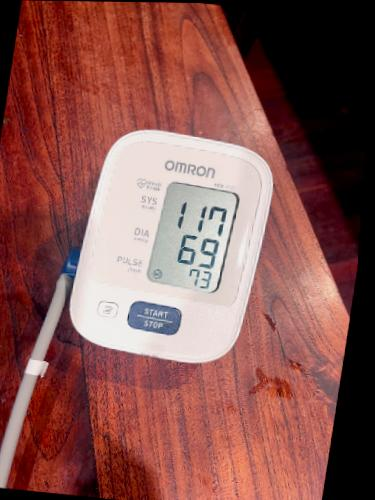bpm: (142, 175, 241, 298)
